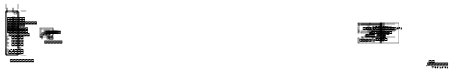door: (6, 59, 13, 68), (0, 59, 6, 68), (71, 24, 77, 32), (65, 24, 71, 32), (99, 0, 105, 7), (99, 7, 105, 14), (424, 21, 425, 22)
room: (406, 17, 453, 47), (2, 18, 4, 24), (49, 33, 52, 37), (44, 33, 47, 37), (2, 13, 4, 18), (2, 24, 4, 29), (8, 52, 11, 55), (8, 49, 11, 52), (8, 46, 11, 49), (8, 43, 11, 46), (8, 36, 10, 40), (47, 33, 49, 37), (8, 40, 10, 43), (8, 33, 10, 36)
wall: (8, 52, 11, 55), (8, 49, 11, 52), (8, 46, 11, 49), (8, 43, 11, 46), (1, 3, 3, 6), (1, 6, 3, 9), (422, 29, 425, 31), (4, 29, 6, 31), (42, 30, 44, 32), (420, 29, 422, 31), (429, 28, 431, 30), (428, 28, 429, 30), (427, 28, 428, 30), (426, 22, 427, 23), (407, 21, 408, 22), (411, 38, 412, 39), (422, 38, 423, 39), (415, 28, 416, 29), (421, 33, 422, 33), (423, 40, 423, 43), (423, 40, 424, 40), (426, 40, 426, 43), (426, 40, 427, 40)
window: (1, 0, 15, 64), (419, 30, 420, 31), (419, 31, 420, 32), (419, 32, 420, 32)
